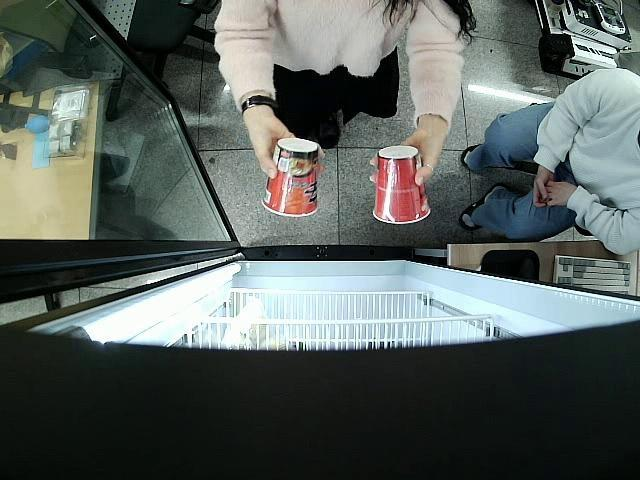02_shinRamen_S: (261, 137, 322, 218), (372, 146, 432, 225)
